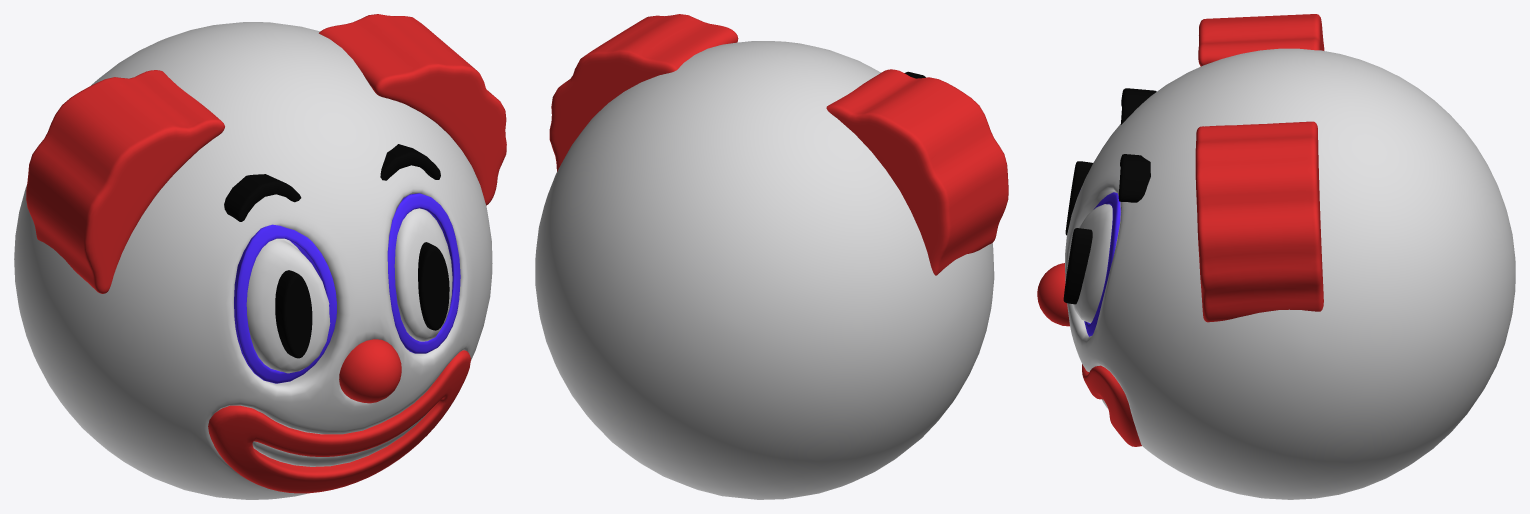
File: clown FBX.glb
3 renders of one model, left to right at view 1: azimuth 30°, elevation 25°; view 2: azimuth 150°, elevation 25°; view 3: azimuth 270°, elevation 25°, orthographic. The views are drawn at different scales.
Visible parts, largest first — view 1: Group53716, ZBrush_defualt_group001, Group002, Group24186, Group55708, Group31867, Group004, ZBrush_defualt_group003, ZBrush_defualt_group002, Group003; view 2: Group53716, ZBrush_defualt_group001, Group002; view 3: Group53716, Group002, ZBrush_defualt_group001, Group24186, Group31867, ZBrush_defualt_group003, Group003, Group55708, ZBrush_defualt_group002, Group004.
Part boxes in pixels (x1=…): Group53716: x1=14, y1=22, x2=492, y2=499; ZBrush_defualt_group001: x1=26, y1=70, x2=224, y2=293; Group002: x1=319, y1=14, x2=506, y2=205; Group24186: x1=208, y1=350, x2=470, y2=493; Group55708: x1=234, y1=193, x2=460, y2=383; Group31867: x1=339, y1=339, x2=401, y2=403; Group004: x1=275, y1=270, x2=312, y2=358; ZBrush_defualt_group003: x1=418, y1=242, x2=449, y2=330; ZBrush_defualt_group002: x1=224, y1=174, x2=301, y2=221; Group003: x1=380, y1=144, x2=440, y2=180; Group53716: x1=535, y1=41, x2=994, y2=499; ZBrush_defualt_group001: x1=826, y1=69, x2=1008, y2=275; Group002: x1=549, y1=14, x2=738, y2=171; Group53716: x1=1065, y1=48, x2=1515, y2=499; Group002: x1=1195, y1=121, x2=1323, y2=322; ZBrush_defualt_group001: x1=1198, y1=14, x2=1324, y2=66; Group24186: x1=1082, y1=364, x2=1141, y2=446; Group31867: x1=1037, y1=263, x2=1069, y2=326; ZBrush_defualt_group003: x1=1063, y1=228, x2=1092, y2=304; Group003: x1=1118, y1=154, x2=1150, y2=202; Group55708: x1=1080, y1=189, x2=1120, y2=336; ZBrush_defualt_group002: x1=1121, y1=88, x2=1156, y2=124; Group004: x1=1065, y1=161, x2=1092, y2=235.
Bounding box in the file's own units: 0.5632 × 0.5542 × 0.5876.
